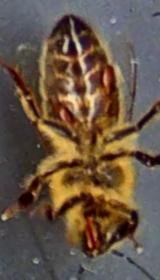varroa_mite: (87, 57, 128, 96), (48, 92, 87, 131)
